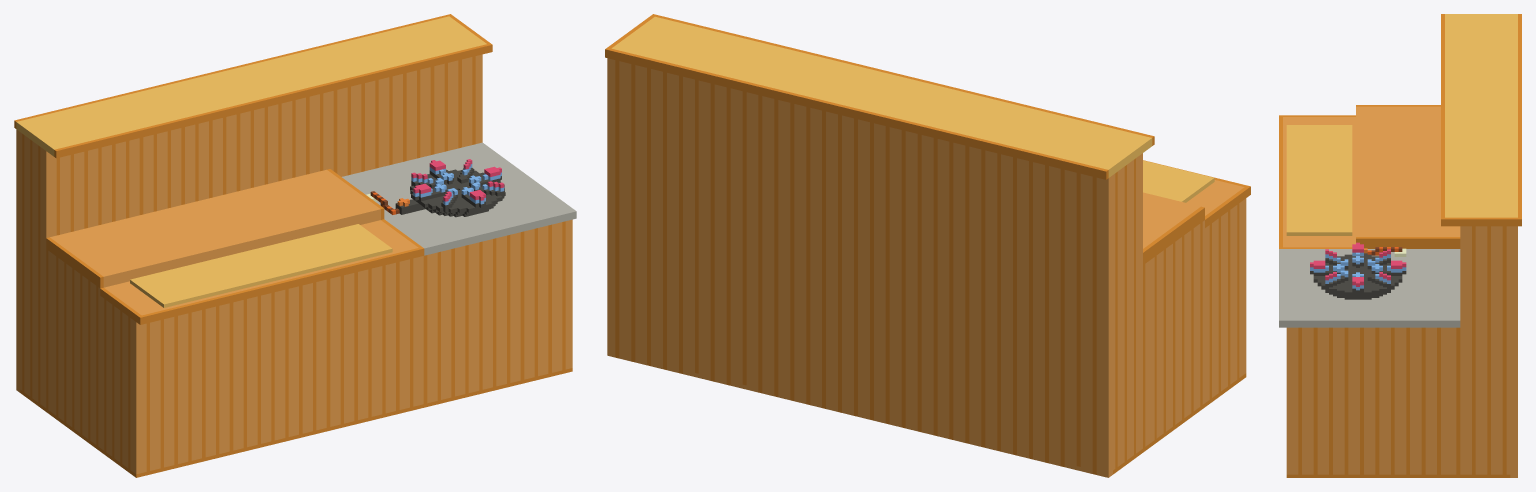
Rendered from kitchen.ver2.1.fbx.
3 views of the same model, side by side, from view 1: azimuth 30°, elevation 25°; view 2: azimuth 150°, elevation 25°; view 3: azimuth 270°, elevation 25° (orthographic). The views are drawn at different scales.
Parts seen in each view (by area): view 1: ObjObject.001; view 2: ObjObject.001; view 3: ObjObject.001.
Part boxes in pixels (x1,y1,x2,y2): ObjObject.001: (14, 14, 576, 477); ObjObject.001: (605, 14, 1250, 477); ObjObject.001: (1279, 14, 1521, 477).
Bounding box in the file's own units: 1260 × 740 × 630.
Materials: 1 (1 with a texture image).
